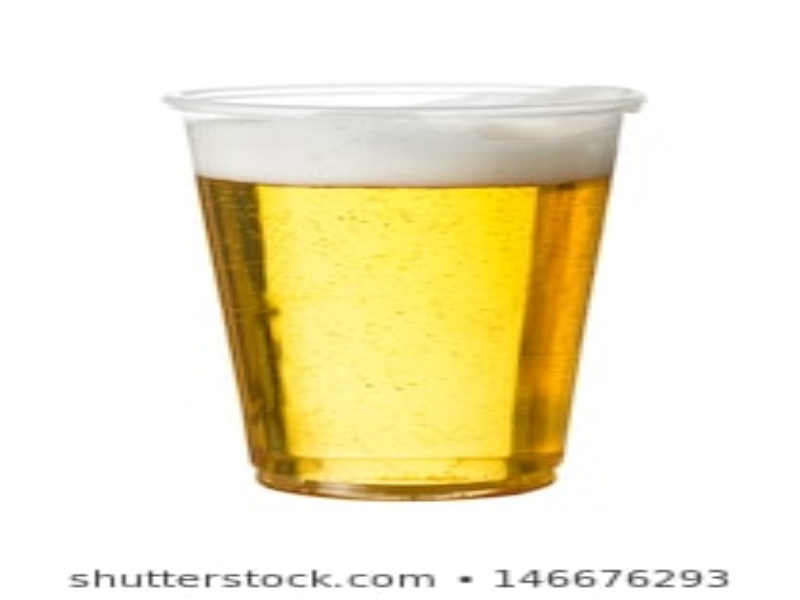plastic-cup: (160, 78, 645, 502)
